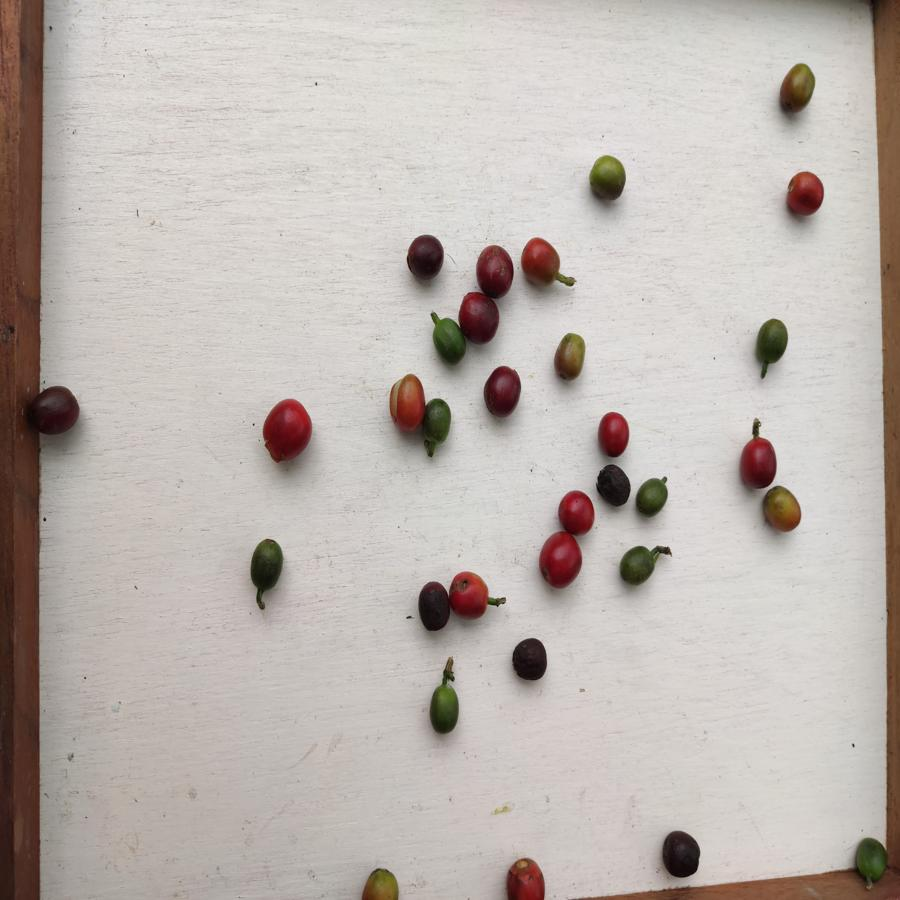Inmaduro: (248, 537, 286, 590), (853, 833, 889, 882), (755, 318, 793, 364), (426, 685, 462, 733), (431, 315, 464, 366), (618, 542, 655, 585), (424, 398, 453, 445), (636, 476, 670, 515)
Maduro: (262, 395, 315, 464), (539, 532, 584, 590), (786, 166, 827, 225), (387, 374, 425, 435), (741, 432, 778, 490), (521, 236, 562, 288), (450, 568, 492, 618), (503, 855, 548, 900), (558, 488, 595, 535), (597, 410, 629, 458)
Pinton: (778, 60, 822, 114), (765, 482, 807, 535), (585, 154, 629, 204), (554, 330, 588, 385), (358, 864, 402, 900)
Sobremaduro: (24, 385, 83, 439), (480, 365, 527, 421), (458, 292, 504, 346), (477, 240, 517, 298), (406, 232, 448, 287), (508, 634, 552, 683), (662, 827, 702, 878), (418, 578, 451, 632), (598, 465, 631, 507)
